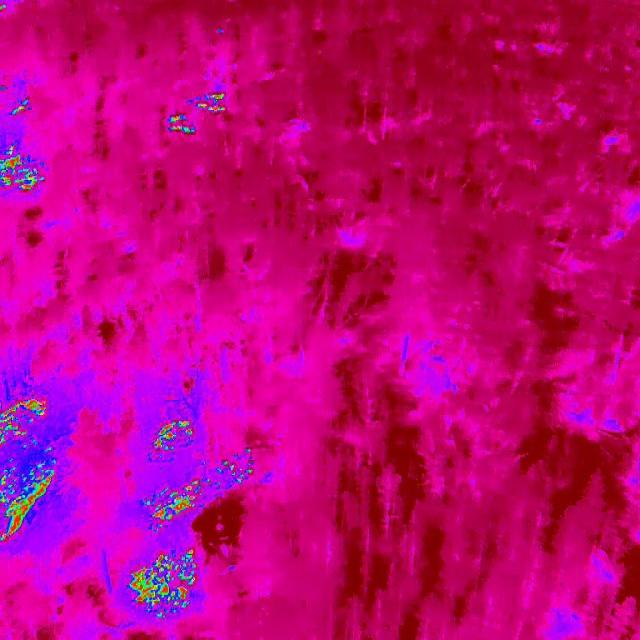fire: (145, 456, 266, 532), (0, 394, 58, 550), (126, 546, 207, 625), (162, 84, 234, 142), (0, 140, 53, 200), (151, 418, 196, 453), (4, 91, 41, 119), (239, 443, 258, 461), (0, 1, 9, 14)
